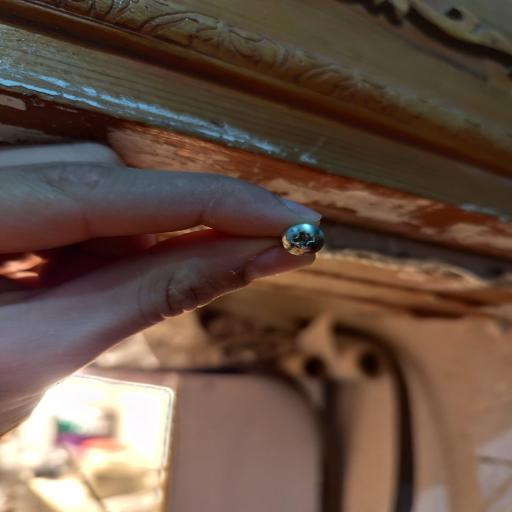Phillips: (278, 216, 330, 256)
